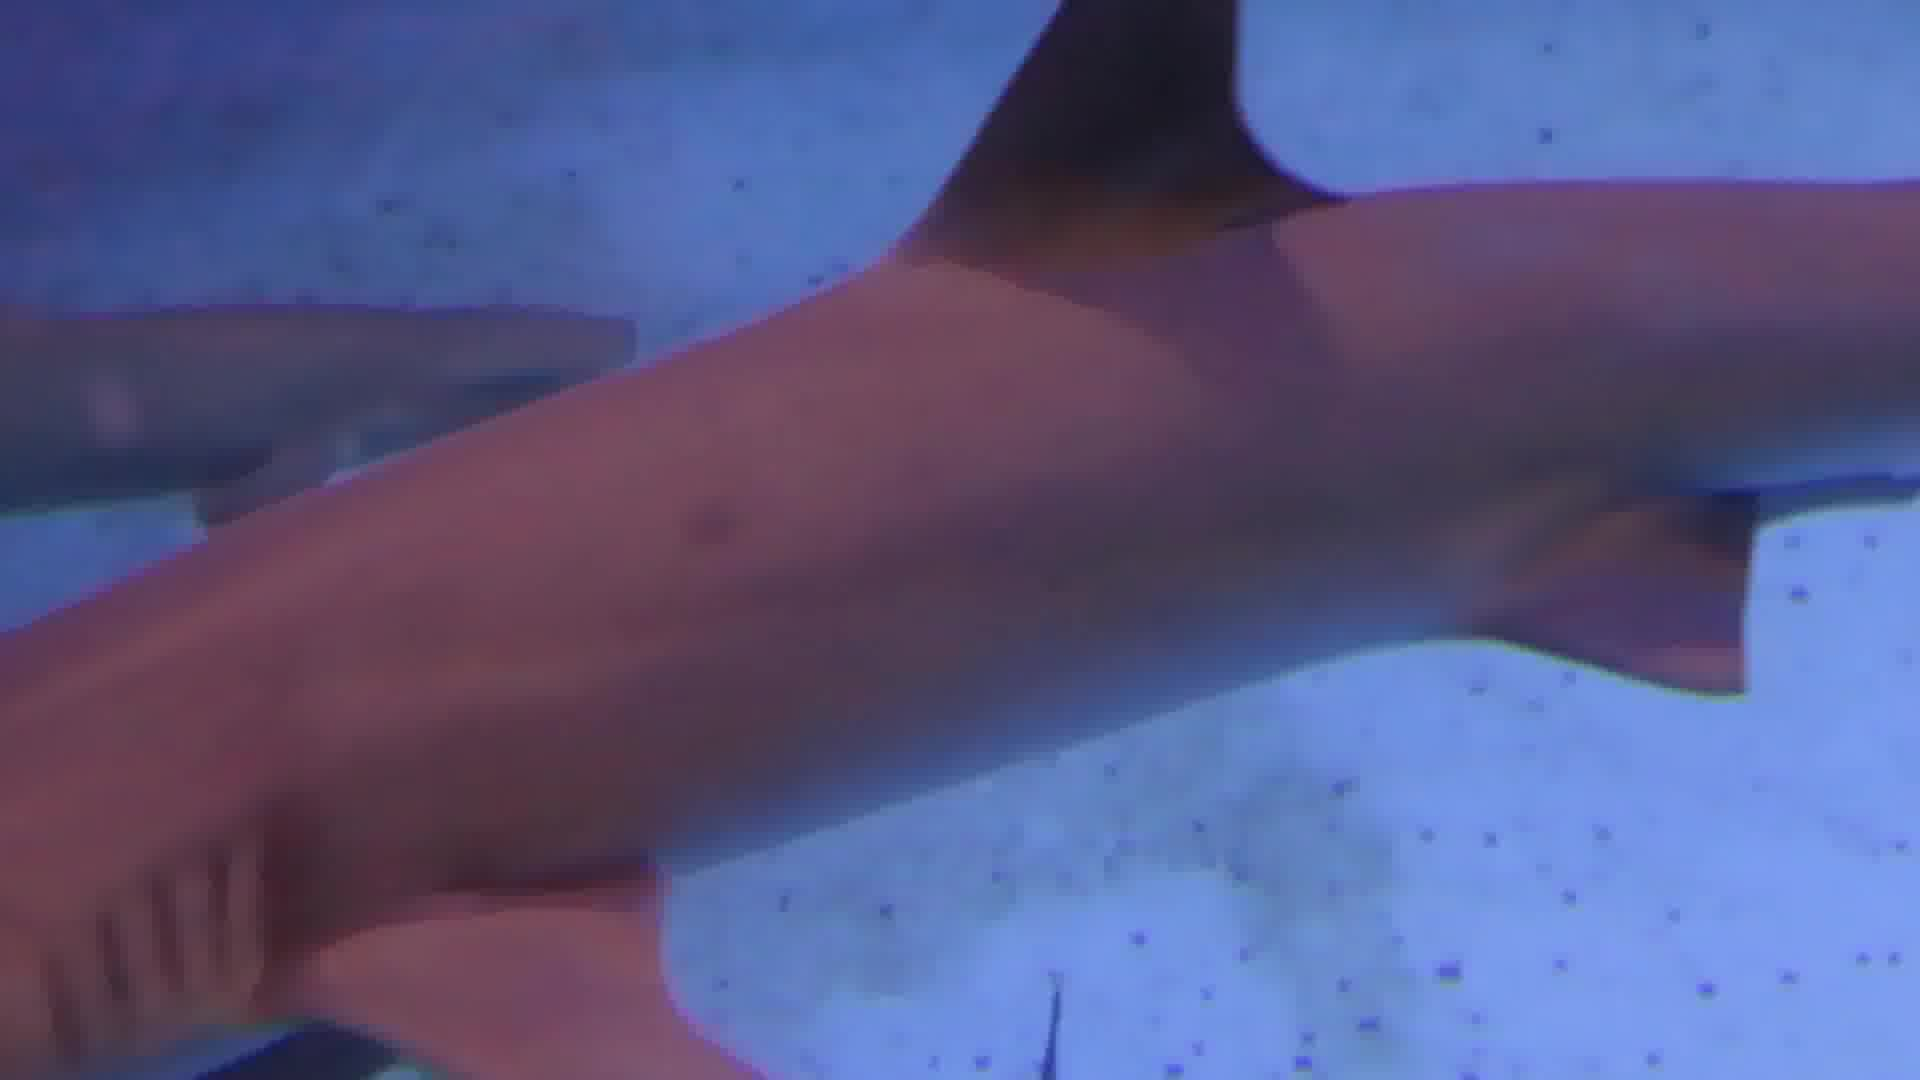Triaenodon obesus: (1, 26, 1920, 1001)
